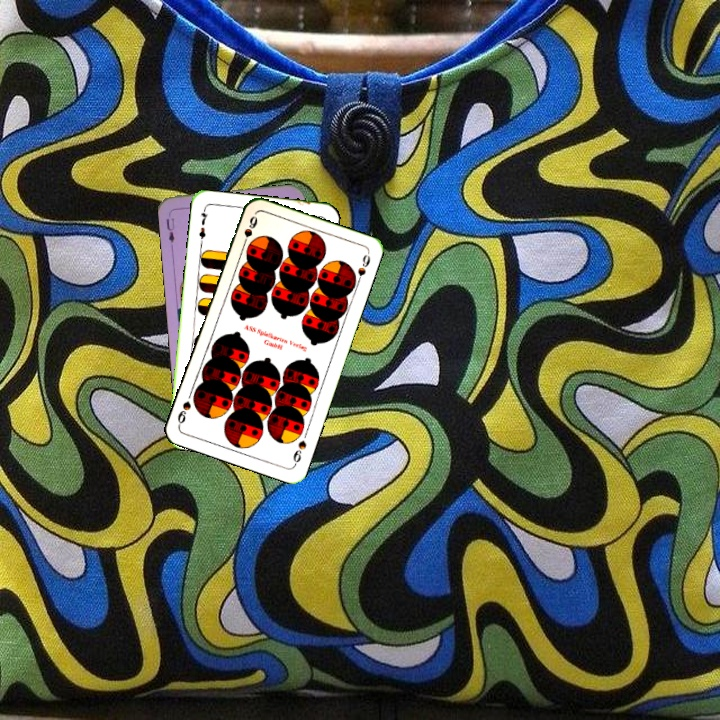E7: (195, 205, 211, 245)
EU: (162, 209, 177, 245)
S9: (238, 212, 260, 251), (289, 436, 309, 468)
